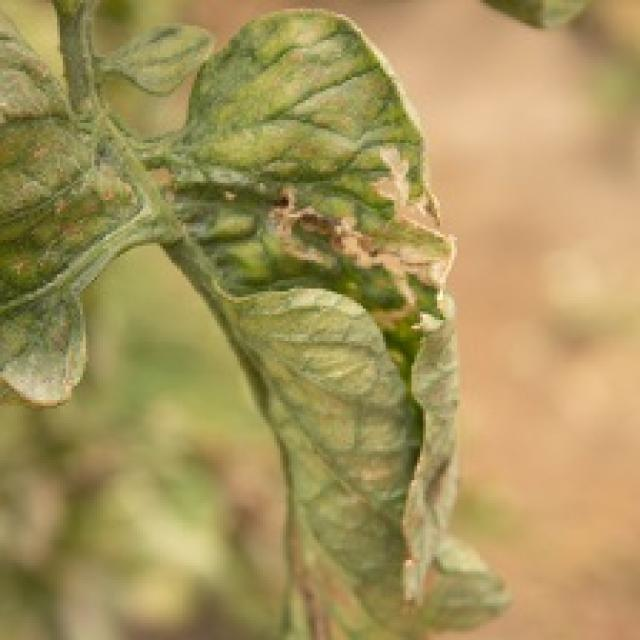Tuta absoluta: (268, 141, 472, 345)
